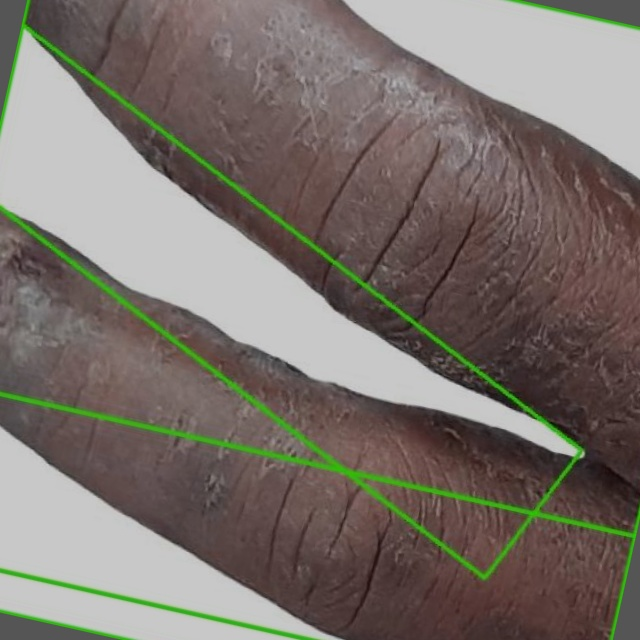Eczema: (0, 0, 639, 639), (0, 1, 588, 578), (0, 394, 635, 639)
